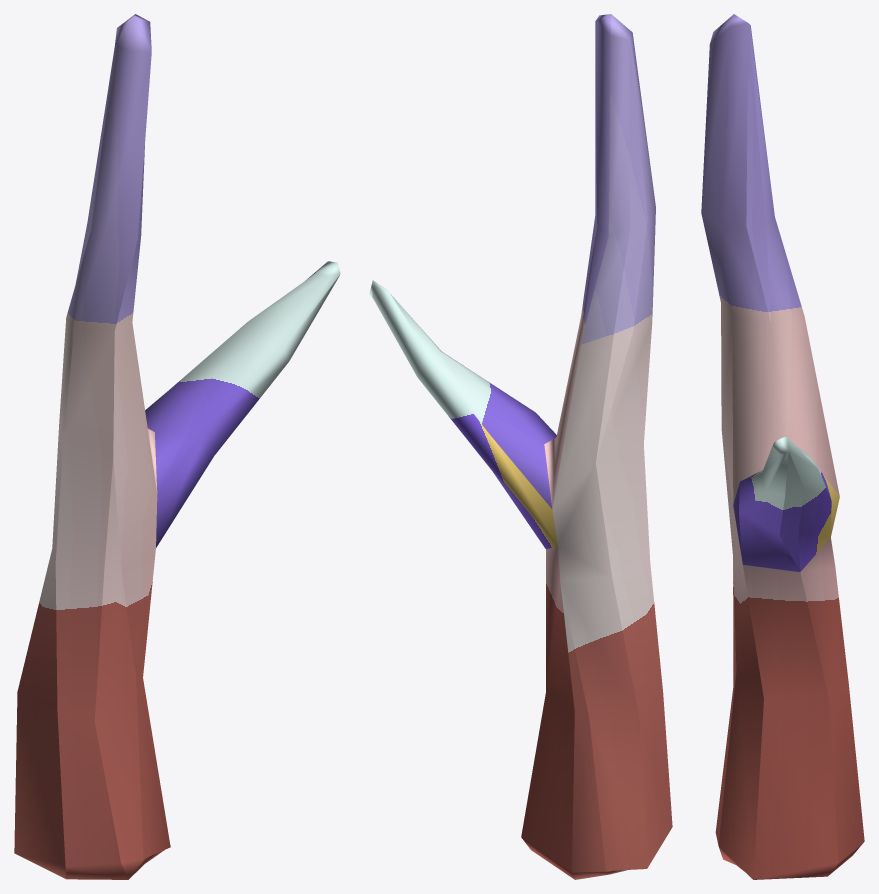
Rendered from Prop_SnowmanArm_01.glb.
3 renders of one model, left to right at view 1: azimuth 30°, elevation 25°; view 2: azimuth 150°, elevation 25°; view 3: azimuth 270°, elevation 25°, orthographic. The views are drawn at different scales.
Parts seen in each view (by area): view 1: Prop_SnowmanArm_01; view 2: Prop_SnowmanArm_01; view 3: Prop_SnowmanArm_01.
Part boxes in pixels (<box>): Prop_SnowmanArm_01: <box>14,14,340,879</box>; Prop_SnowmanArm_01: <box>369,14,672,879</box>; Prop_SnowmanArm_01: <box>701,14,864,879</box>.
Bounding box in the file's own units: 0.1234 × 0.3306 × 0.0571.
Materials: 1 (1 with a texture image).
